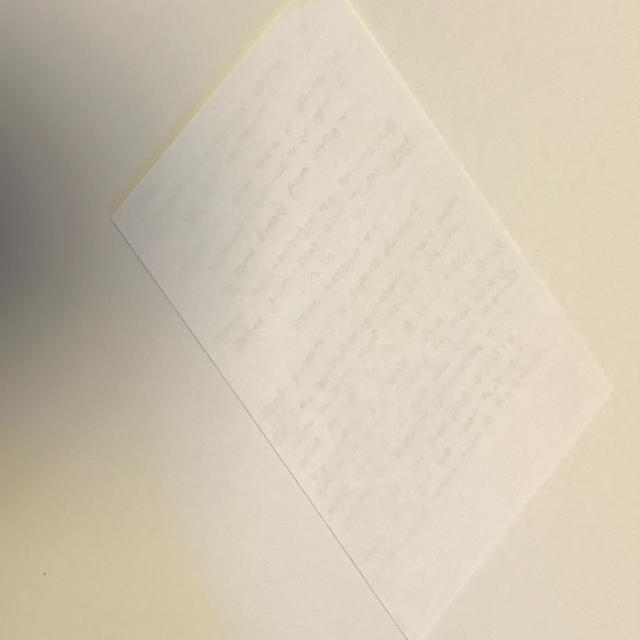paper: (109, 1, 615, 638)
